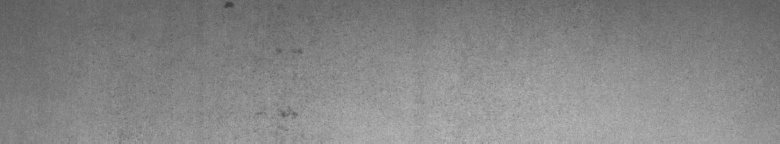ib: (224, 4, 307, 128)
